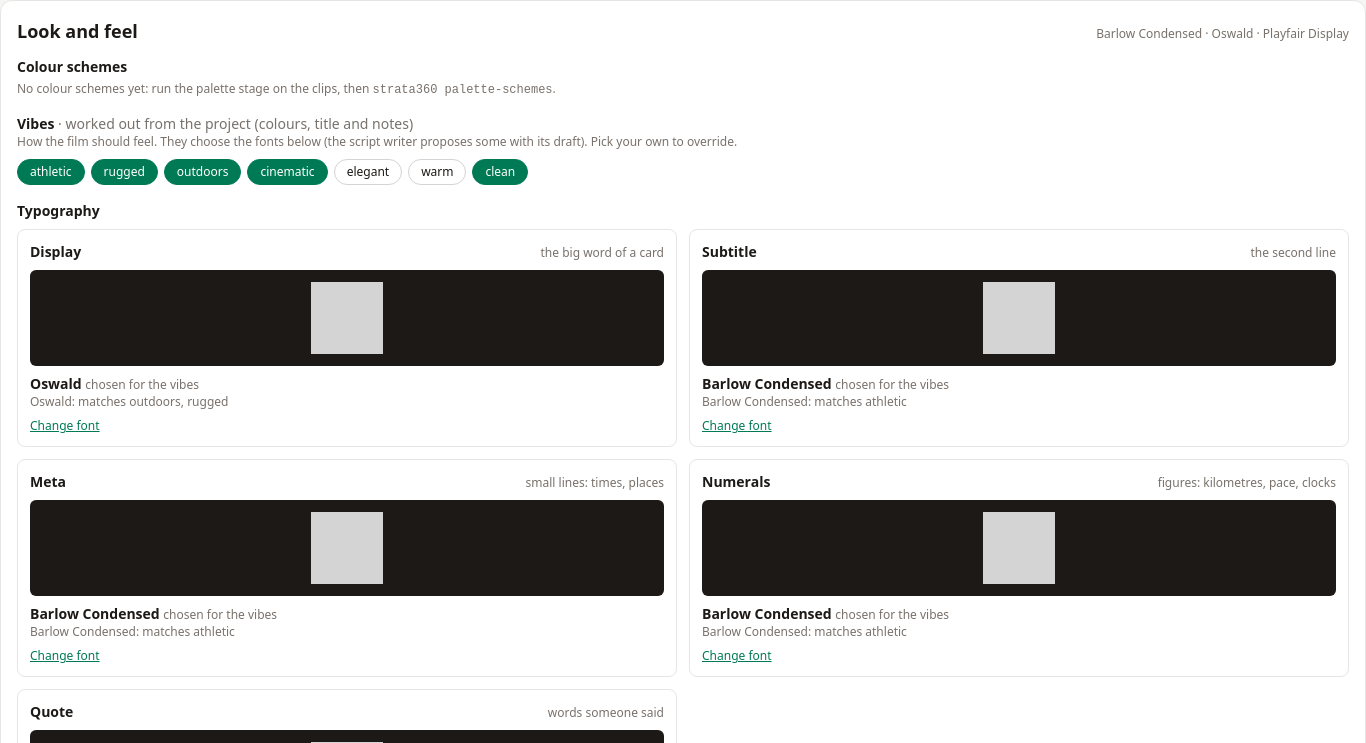
StylePanel › disables the choices while one is being saved
This screenshot has width=1366, height=743.
Click the button "warm" at x=437, y=172, box [408,159,466,185]
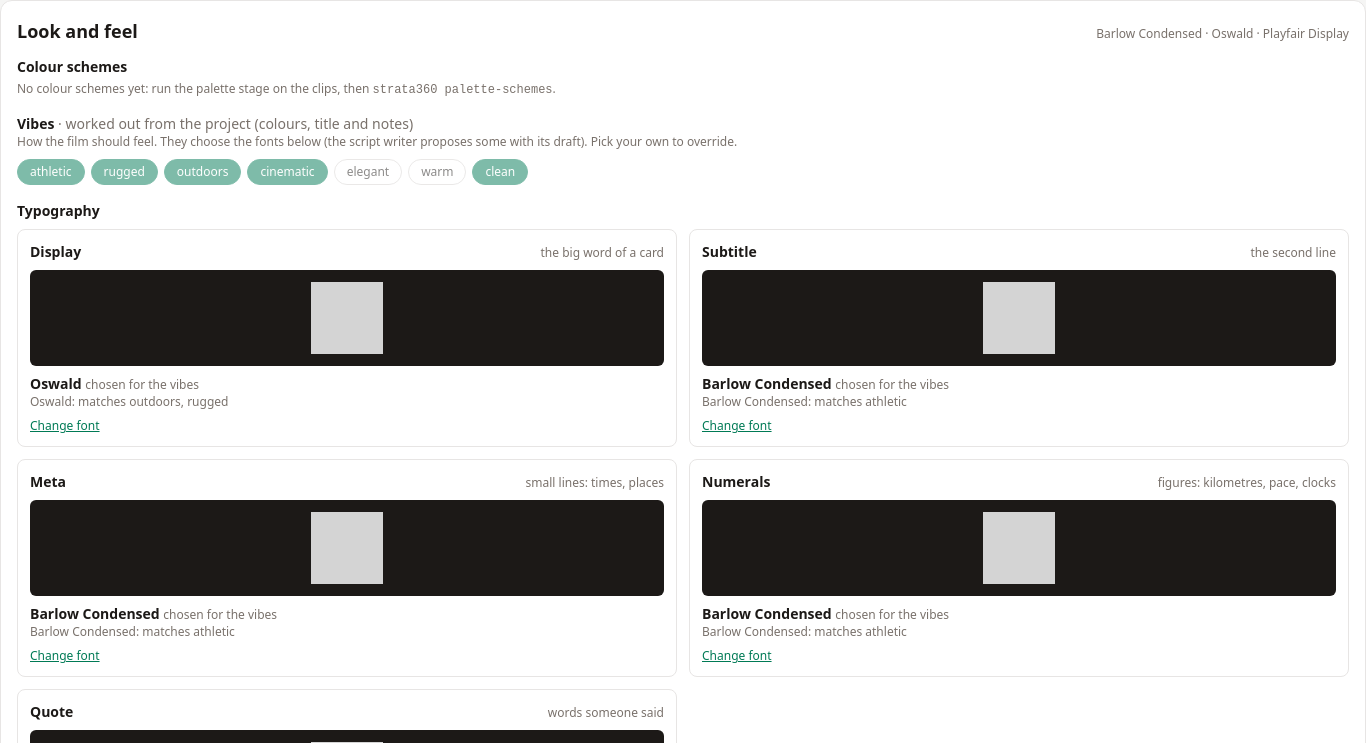
Result: the button "elegant" is disabled at [334,159,402,185]
